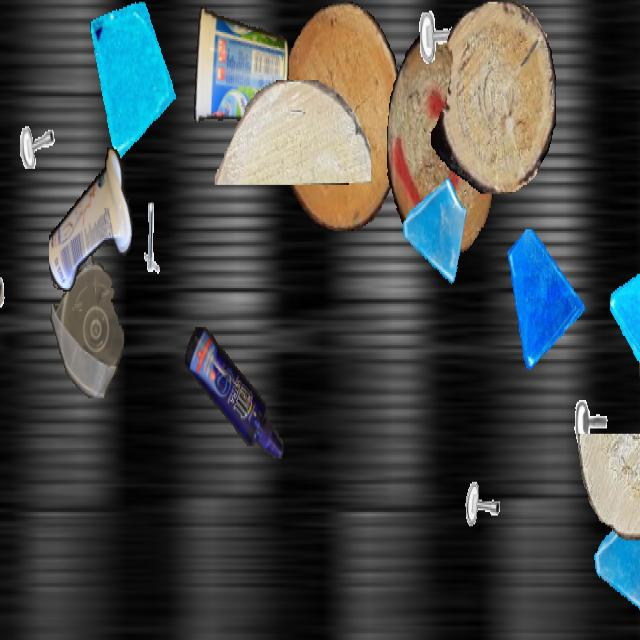glass: (89, 2, 181, 165), (505, 230, 585, 372), (401, 172, 469, 294), (592, 489, 640, 638), (610, 247, 640, 368)
metal: (413, 2, 473, 108), (459, 439, 511, 532), (8, 76, 60, 169), (121, 188, 171, 278), (572, 366, 618, 448), (0, 180, 11, 276), (0, 263, 6, 338)
plastic: (185, 327, 283, 459), (49, 144, 133, 297), (192, 2, 288, 126), (50, 240, 124, 396), (639, 265, 640, 638)
wood: (279, 2, 403, 229), (431, 2, 555, 194), (387, 36, 495, 252), (214, 80, 370, 183), (578, 434, 640, 540)
